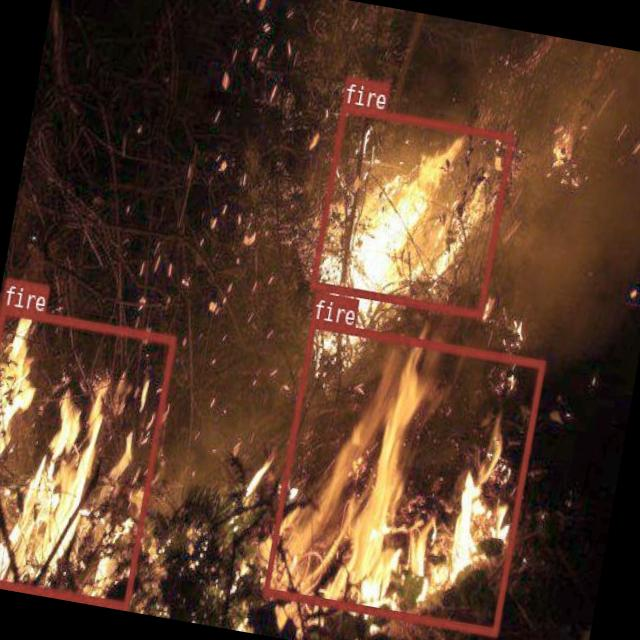fire: (262, 319, 544, 635), (0, 304, 174, 607), (308, 102, 514, 316)
